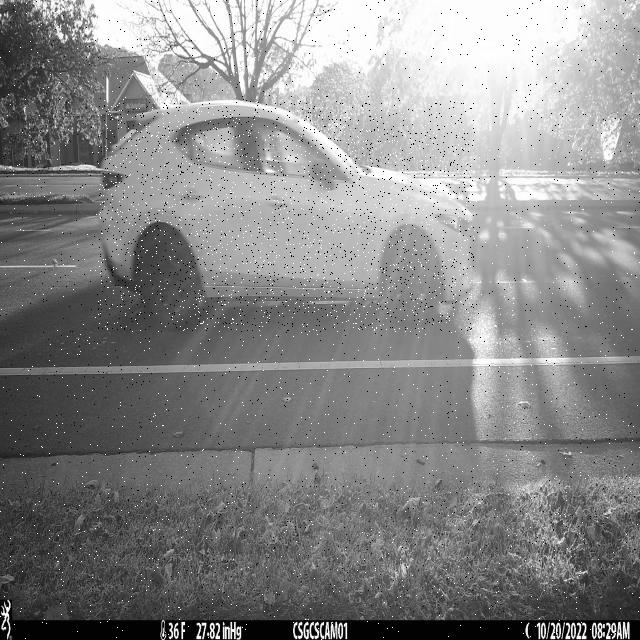Hatchback: (98, 101, 475, 332)
